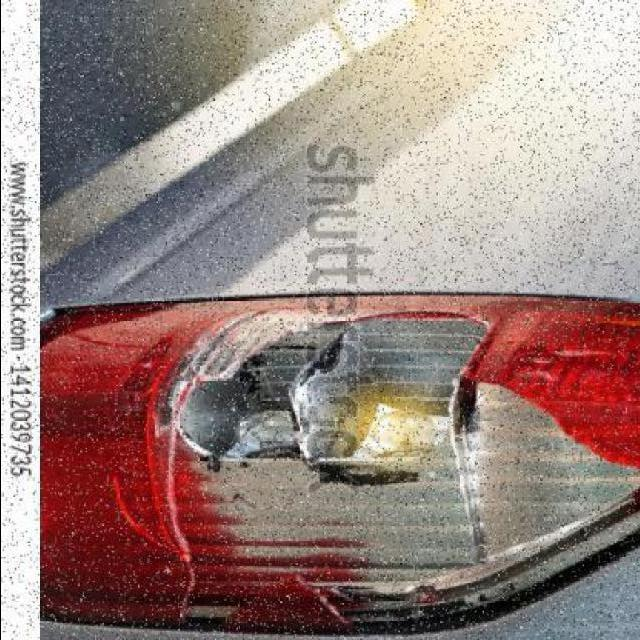Taillight-Damage: (88, 293, 634, 590)
